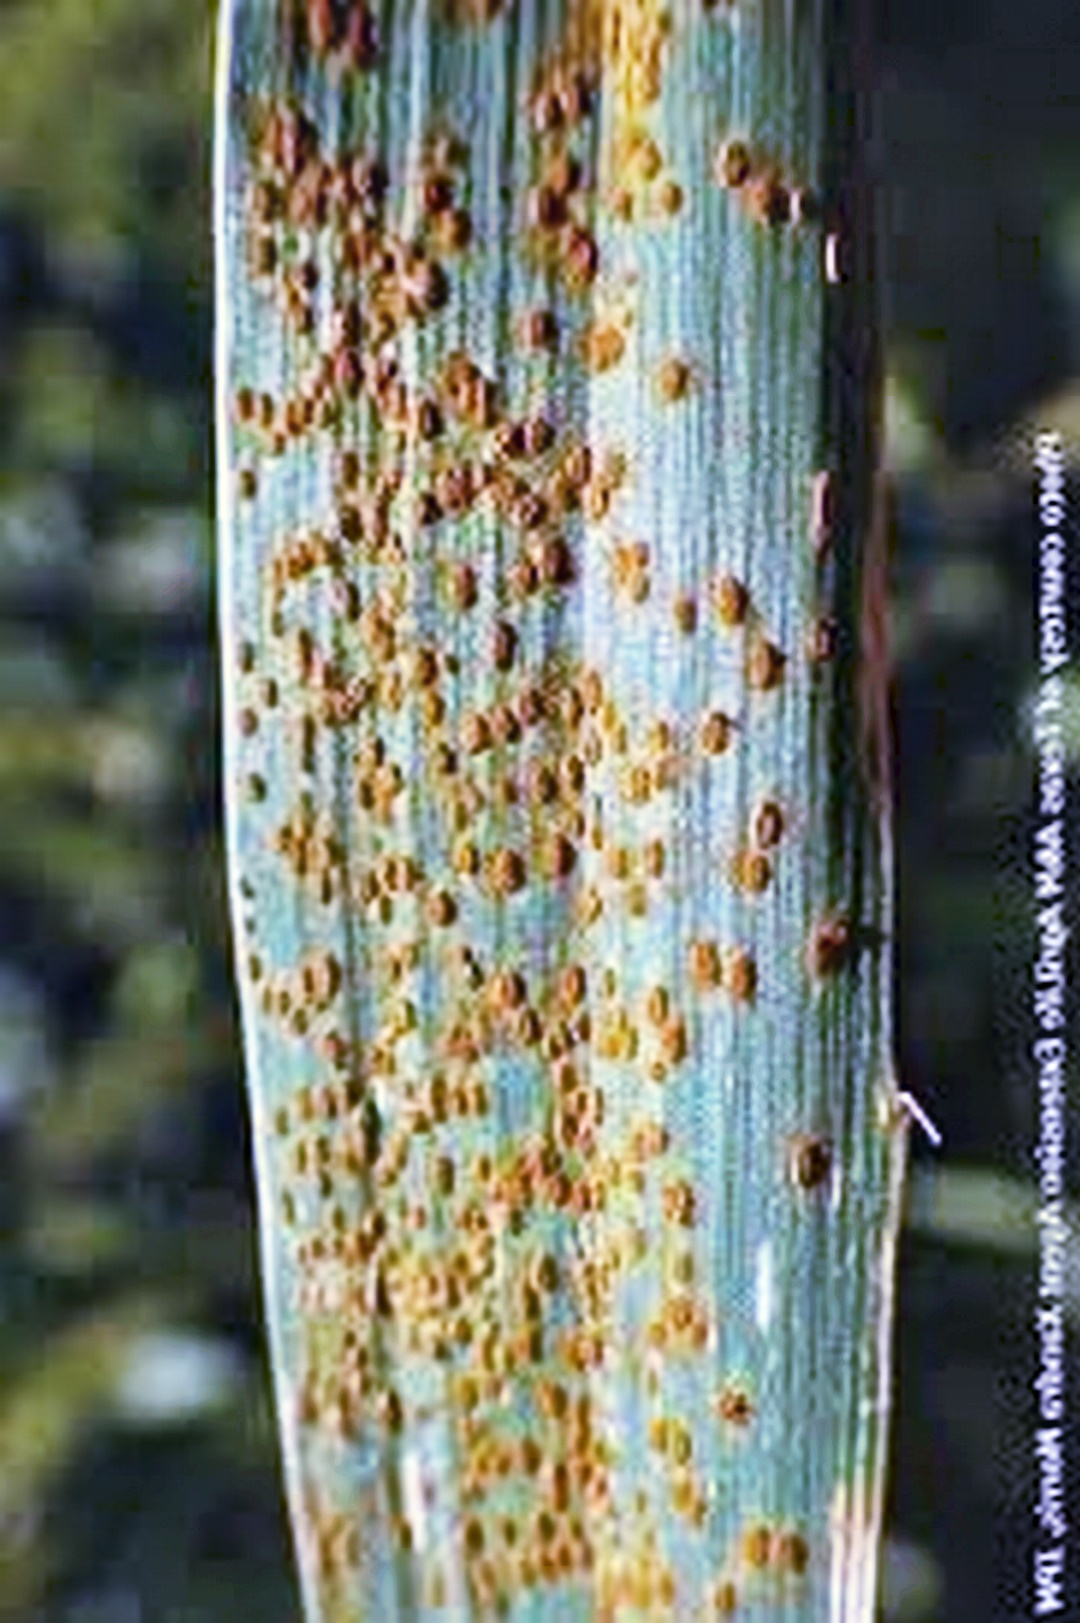Leaf Rust: (189, 108, 928, 1586)
